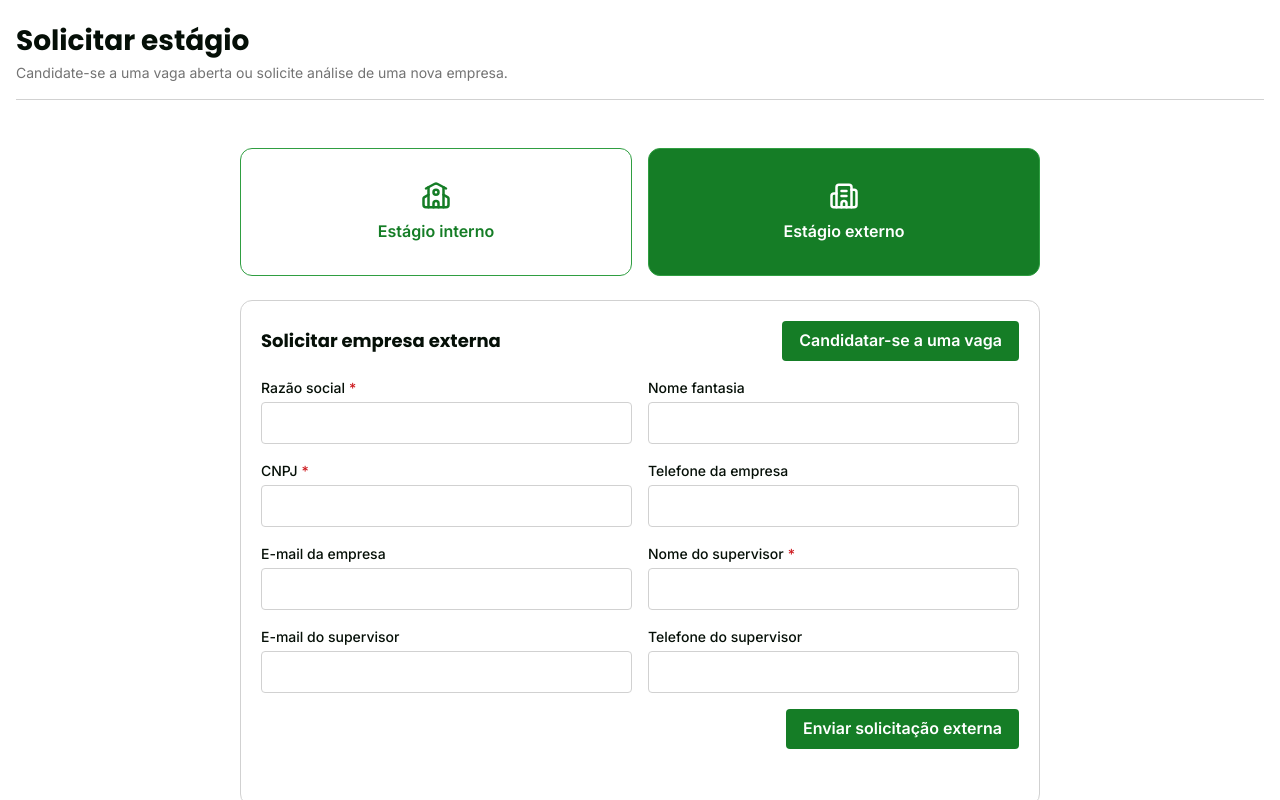
it: SolicitarEstagio › envia solicitação externa com o DTO documentado
Type "Empresa Teste LTDA" into the field labelled "Razão social*".
click(446, 423); type("Empresa Teste LTDA")  # box [261, 402, 632, 444]
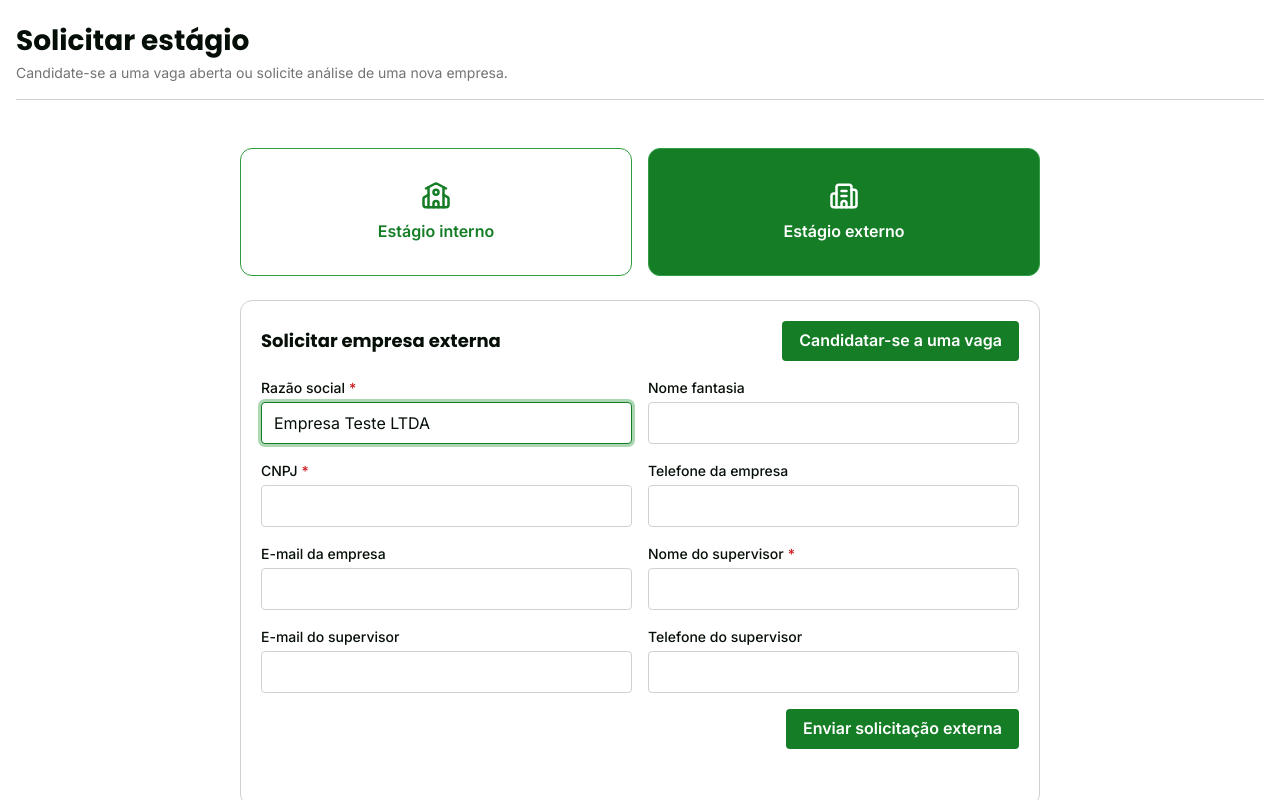
Type "12345678000195" into the field labelled "CNPJ*".
click(446, 506); type("12345678000195")  # box [261, 485, 632, 527]
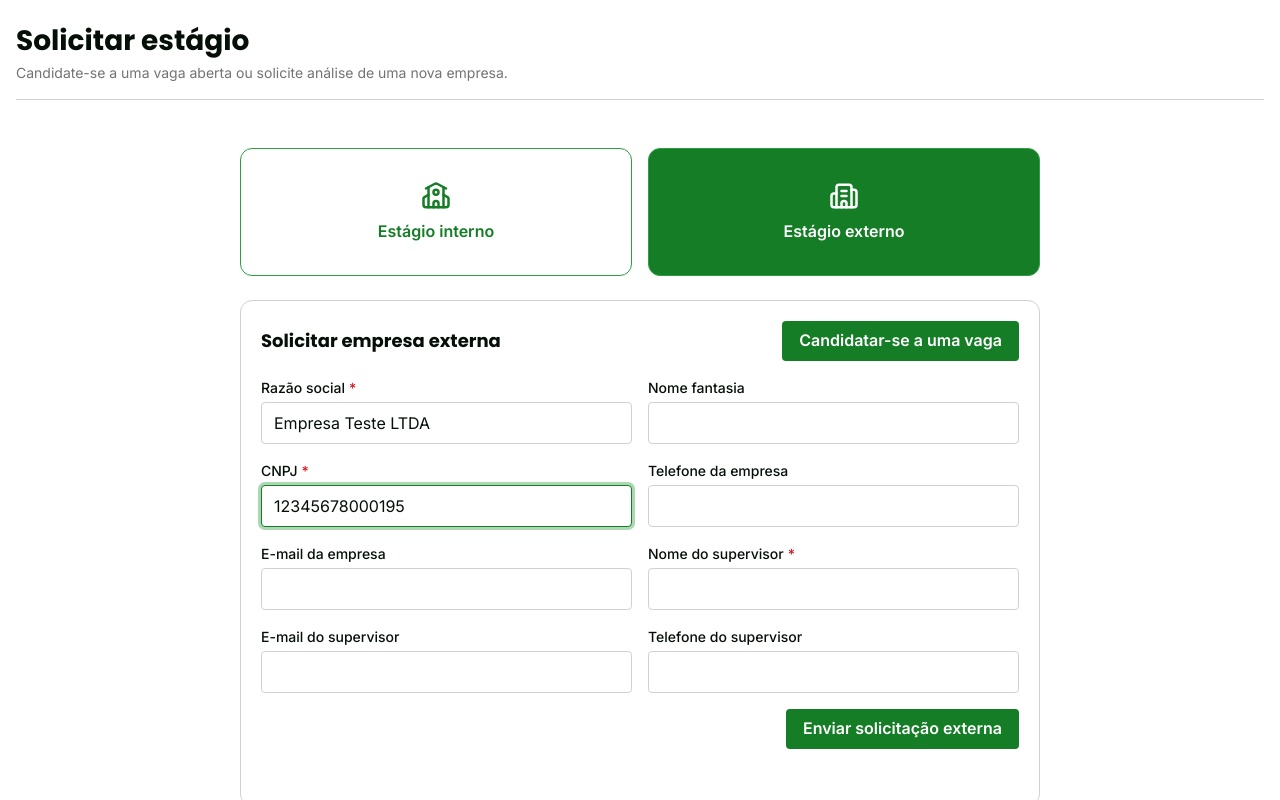
Type "Maria Teste" into the field labelled "Nome do supervisor*".
click(834, 589); type("Maria Teste")  # box [648, 568, 1019, 610]
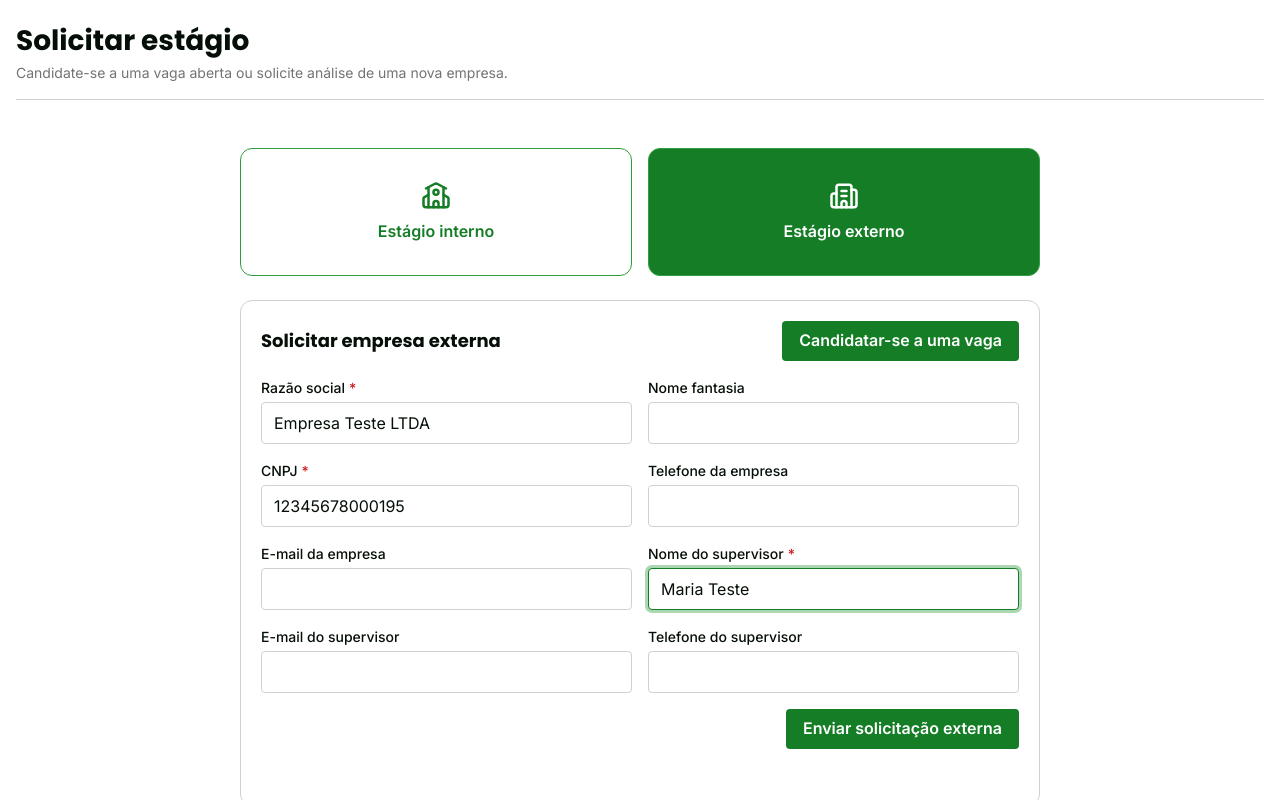
Click the button "Enviar solicitação externa".
click(902, 729)  # box [786, 709, 1019, 749]
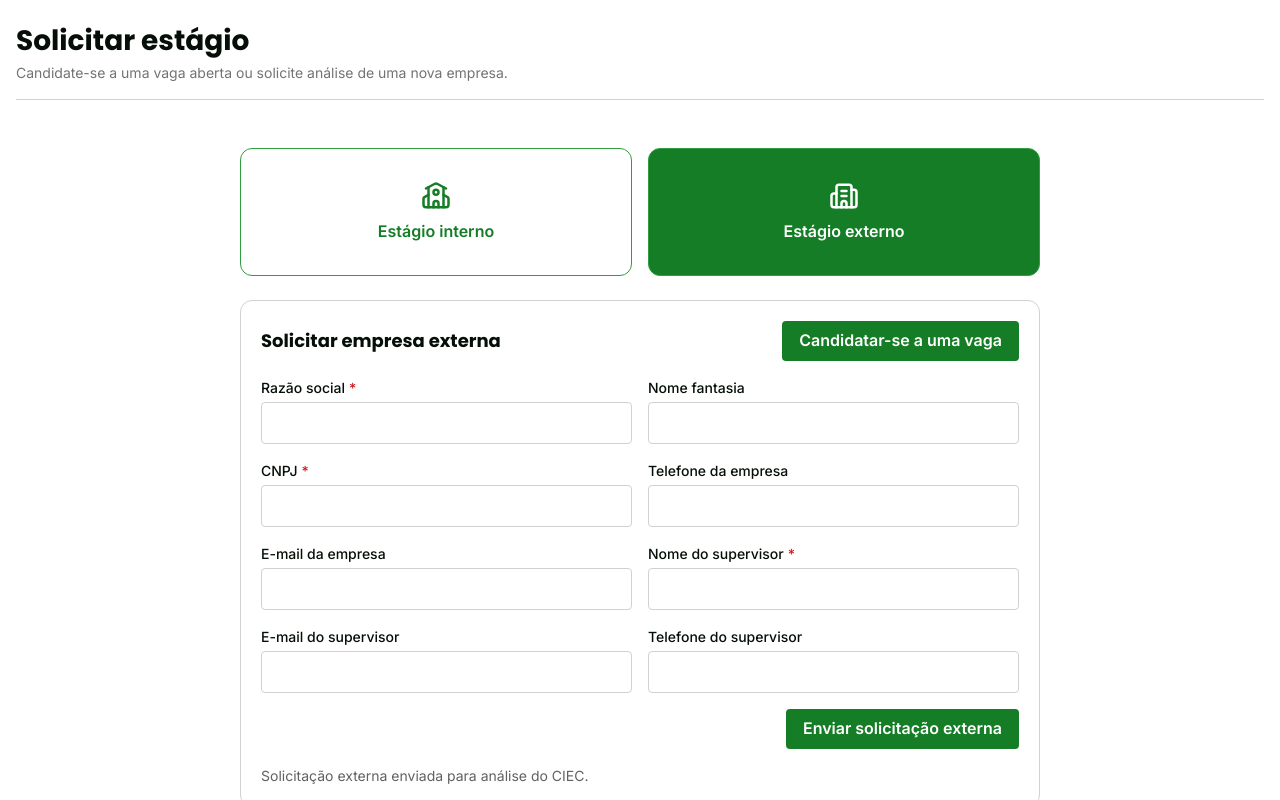
Expected: the text "Solicitação externa enviada para análise do CIEC." is shown, [261, 767, 588, 784]
